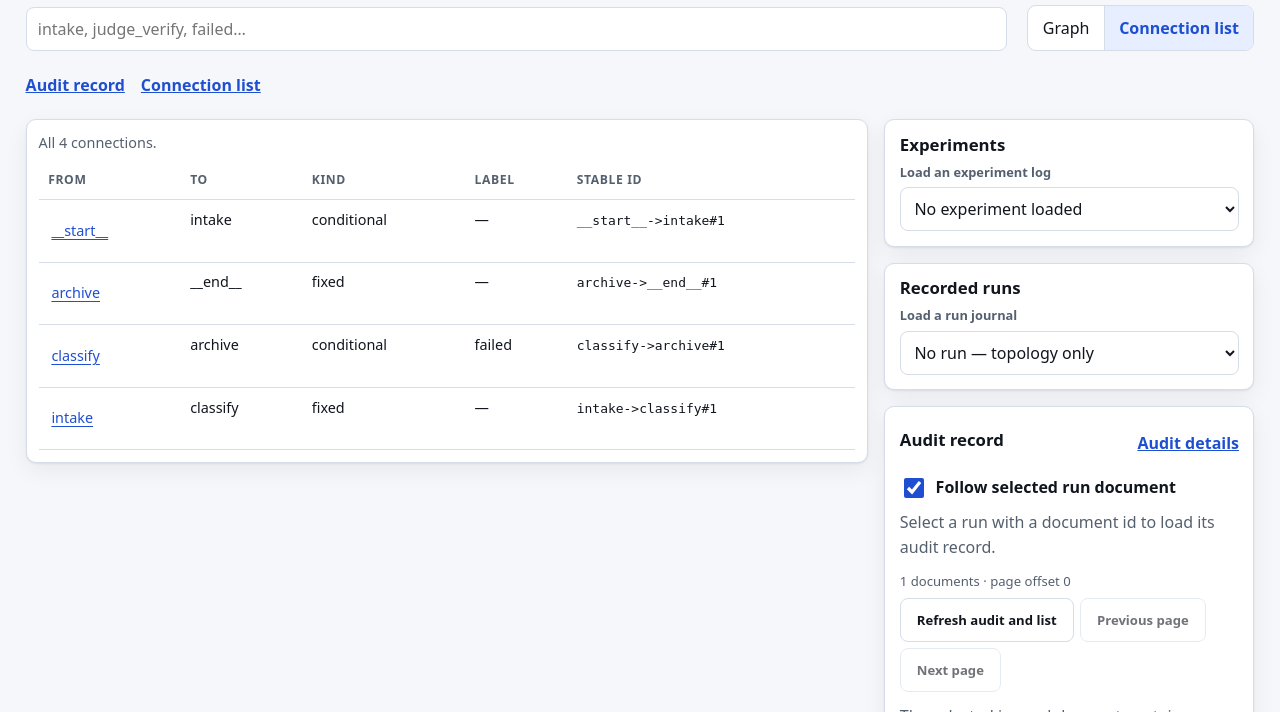
Test: App › starts and stops recorded-path playback
This screenshot has width=1280, height=712.
(page scrolled)
Expected: the text "All 4 connections." is shown, 39,133 -> 157,152
Select "real-doc.txt — contract / archived" in the dropdown labelled "Load a run journal" at (1069, 353), box 900,331 -> 1239,375
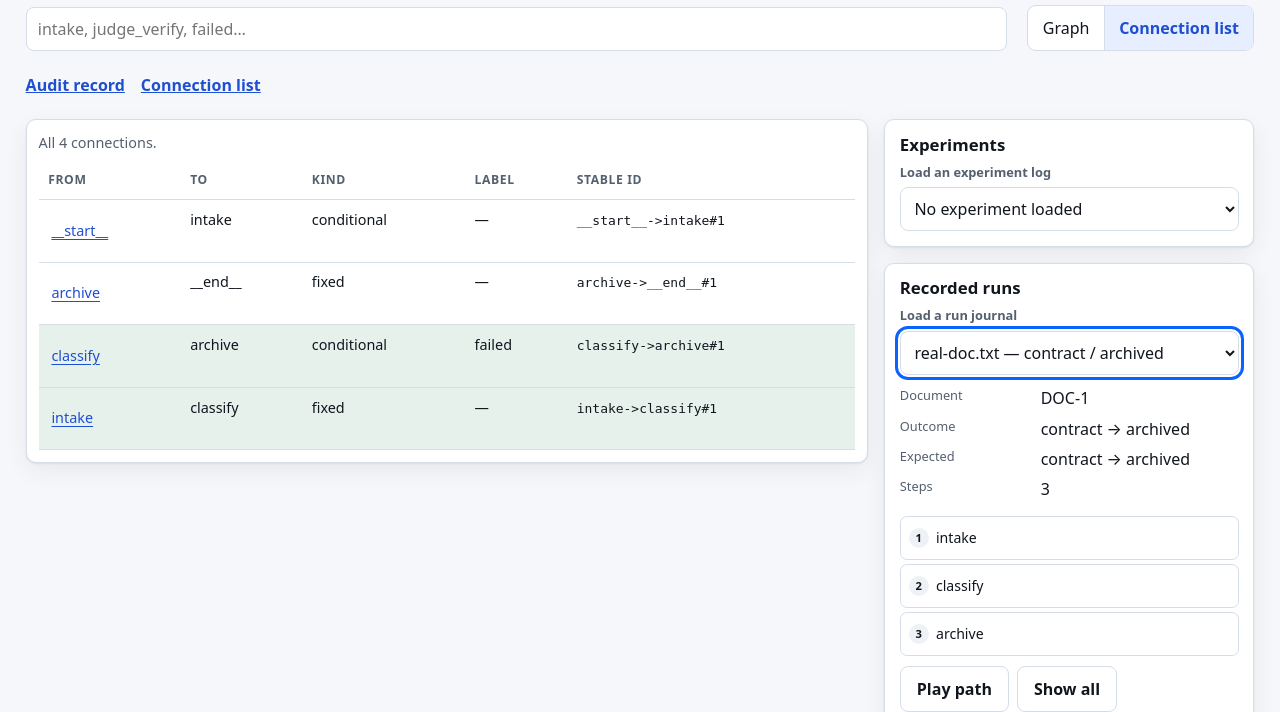
Now the list named "Recorded node path" is shown, box 900,516 -> 1239,656
Click the button "Play path" at (954, 689), box 900,666 -> 1009,711
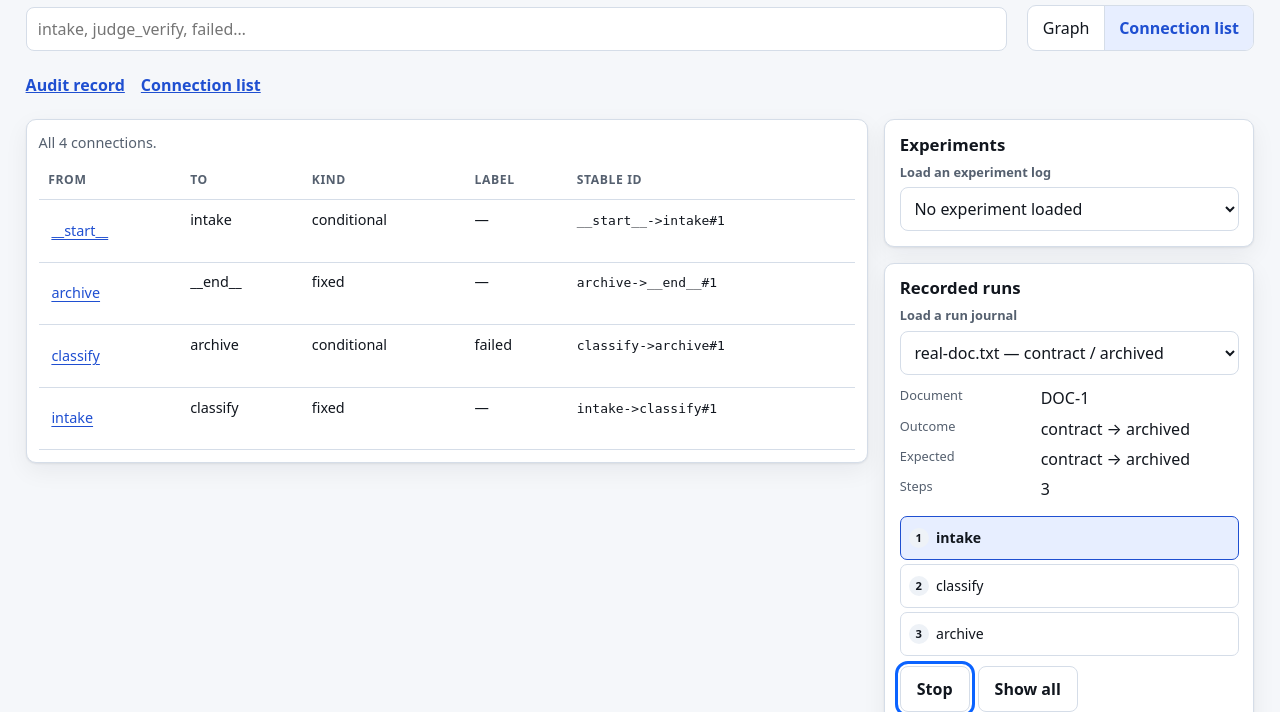
Now the button "Stop" is shown
Click the button "Stop" at (935, 689), box 900,666 -> 970,711
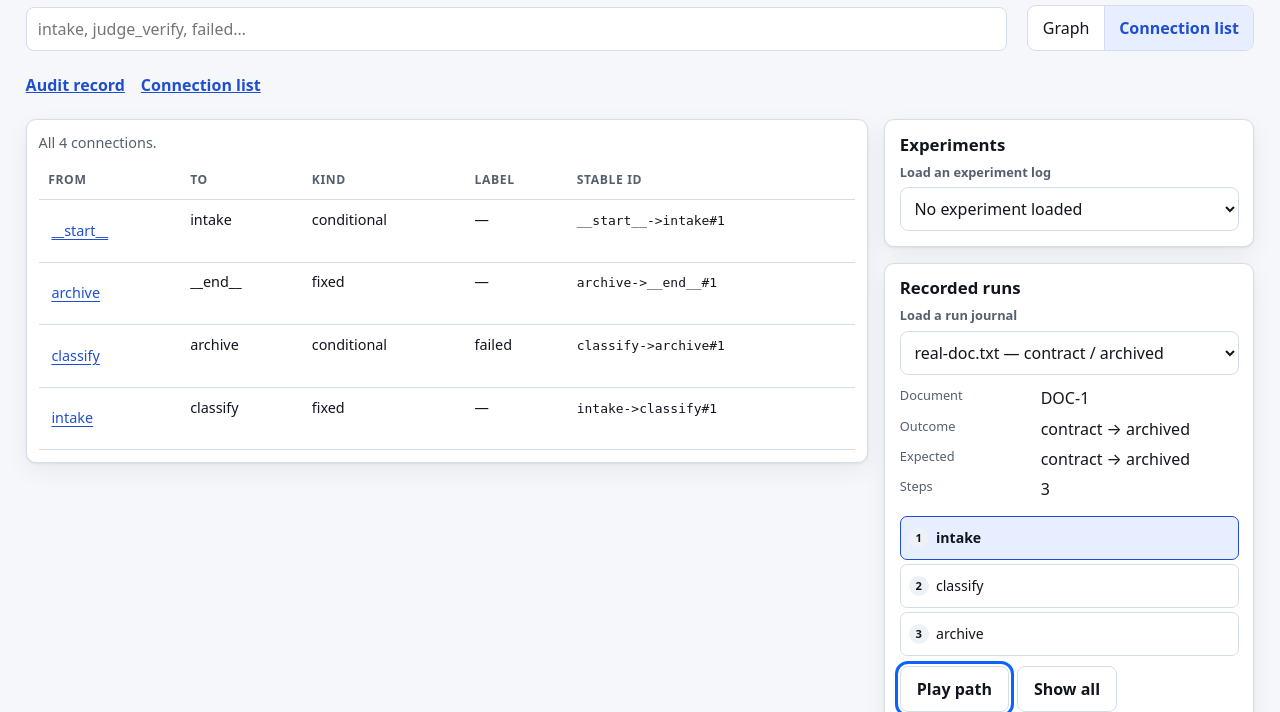
Now the button "Play path" is shown, box 900,666 -> 1009,711
